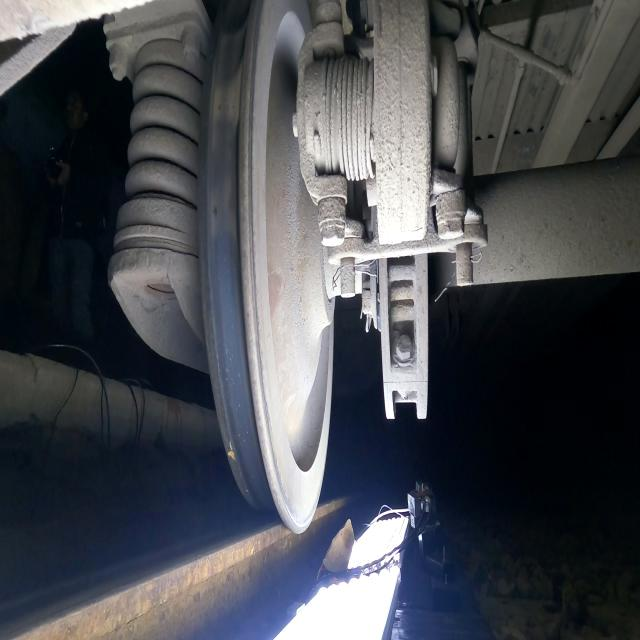Cracks-Scratches: (227, 440, 236, 461)
Shelling: (208, 14, 248, 240)
Wheel: (199, 0, 334, 534)
